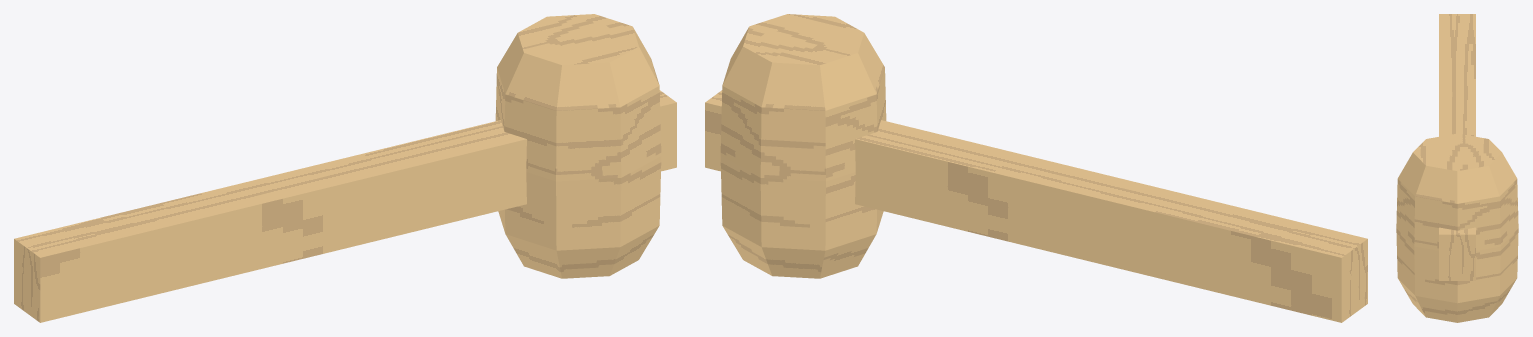
The model's file is woodenMallet.glb.
The picture shows the model from 3 angles, left to right: view 1: azimuth 30°, elevation 25°; view 2: azimuth 150°, elevation 25°; view 3: azimuth 270°, elevation 25°; orthographic projection. The views are drawn at different scales.
Visible parts, largest first — view 1: Cube, Cylinder; view 2: Cube, Cylinder; view 3: Cylinder, Cube.
Boxes of the visible parts, x1=… form: Cube: x1=14, y1=90, x2=676, y2=322; Cylinder: x1=495, y1=14, x2=661, y2=278; Cube: x1=705, y1=90, x2=1367, y2=322; Cylinder: x1=720, y1=14, x2=886, y2=278; Cylinder: x1=1396, y1=133, x2=1518, y2=322; Cube: x1=1439, y1=14, x2=1475, y2=280.
Size of the model in its own units: 0.7773 by 0.2491 by 0.1819.
Materials: 1 (1 with a texture image).
